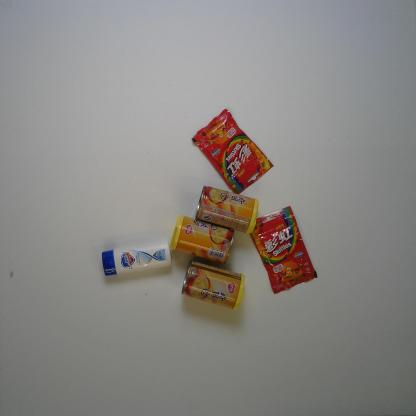Candy: (191, 107, 275, 194), (249, 205, 319, 294)
Canned Food: (194, 184, 260, 236), (169, 214, 237, 264), (181, 260, 245, 312)
Personal Hygiene: (100, 240, 172, 278)
